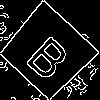B: (23, 27, 80, 84)
